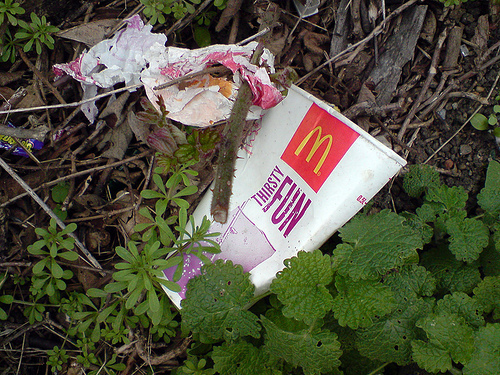litter: (157, 83, 405, 308), (53, 13, 276, 123)
